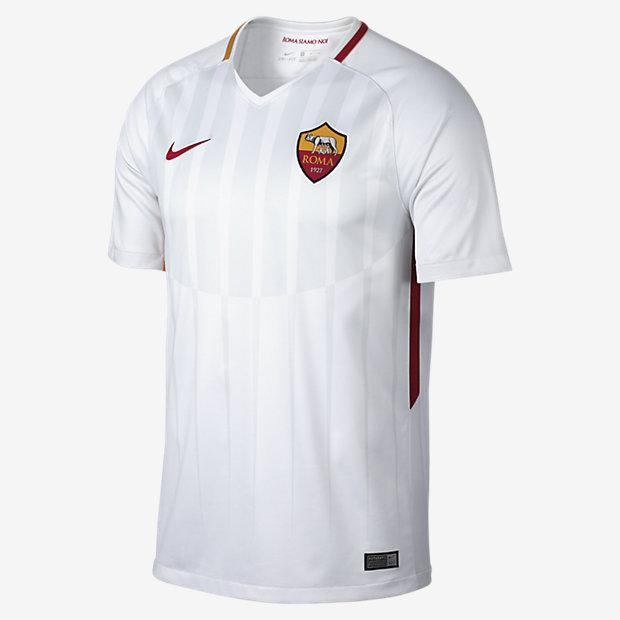teeshirt: (96, 15, 532, 600)
